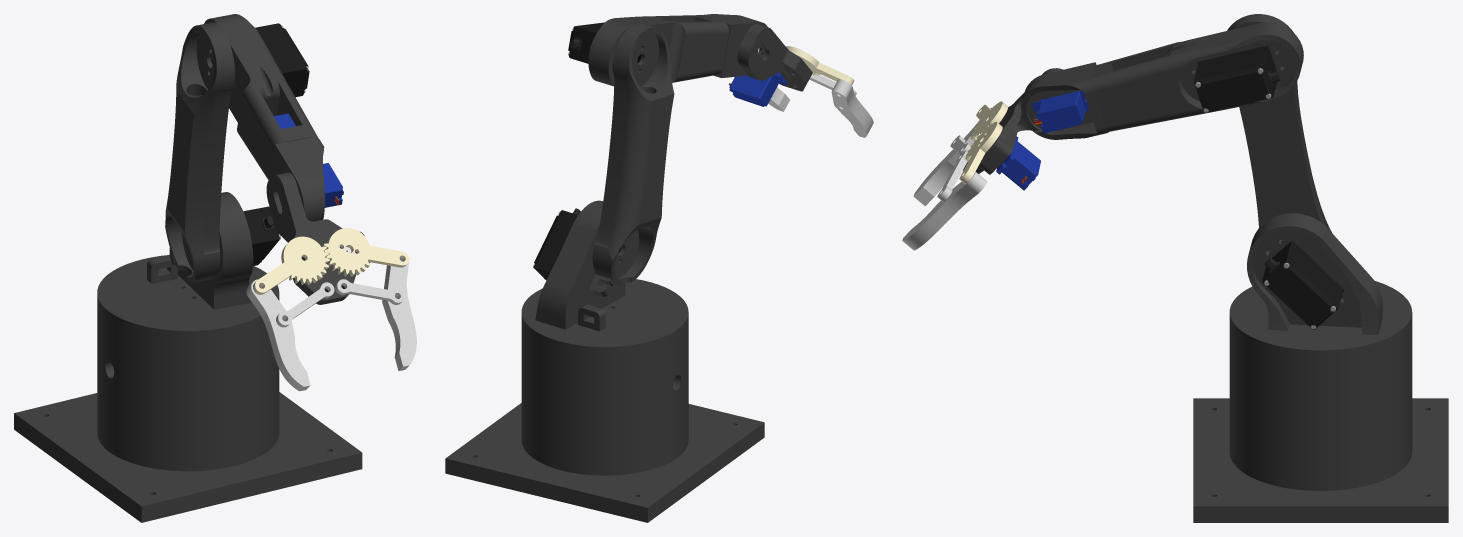
Rendered from robotic-arm-assembly.glb.
The picture shows the model from 3 angles, left to right: view 1: azimuth 30°, elevation 25°; view 2: azimuth 150°, elevation 25°; view 3: azimuth 270°, elevation 25°; orthographic projection. The views are drawn at different scales.
Parts seen in each view (by area): view 1: Solid1 (×14), Solid2, Sólido1; view 2: Solid1 (×9), Solid2, Sólido1; view 3: Solid1 (×13), Solid2, Sólido1 (×2).
Boxes of the visible parts, bbox=[...] form: Solid1 (×14): bbox=[14, 14, 416, 522]; Solid2: bbox=[165, 22, 235, 282]; Sólido1: bbox=[323, 163, 343, 207]; Solid1 (×9): bbox=[445, 14, 873, 522]; Solid2: bbox=[592, 23, 674, 285]; Sólido1: bbox=[729, 72, 787, 106]; Solid1 (×13): bbox=[902, 22, 1448, 522]; Solid2: bbox=[1227, 14, 1331, 232]; Sólido1 (×2): bbox=[996, 90, 1089, 190].
Size of the model in its own units: 0.14 by 0.2706 by 0.2994.
15 materials, 1 textured.
